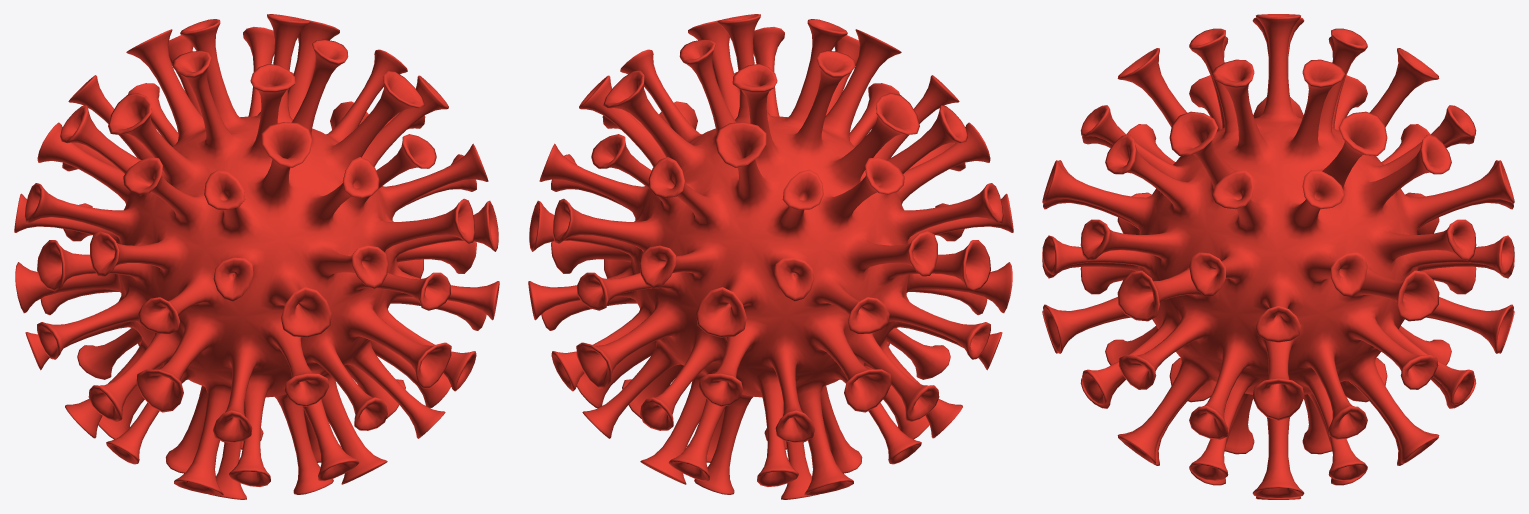
The model's file is corona virus.fbx.
The picture shows the model from 3 angles, left to right: view 1: azimuth 30°, elevation 25°; view 2: azimuth 150°, elevation 25°; view 3: azimuth 270°, elevation 25°; orthographic projection.
Parts seen in each view (by area): view 1: CovidMesh; view 2: CovidMesh; view 3: CovidMesh.
Part boxes in pixels (<box>): CovidMesh: <box>14,14,499,499</box>; CovidMesh: <box>528,14,1013,499</box>; CovidMesh: <box>1042,14,1514,499</box>.
Size of the model in its own units: 516 by 506 by 502.
Materials: 1 (1 with a texture image).
